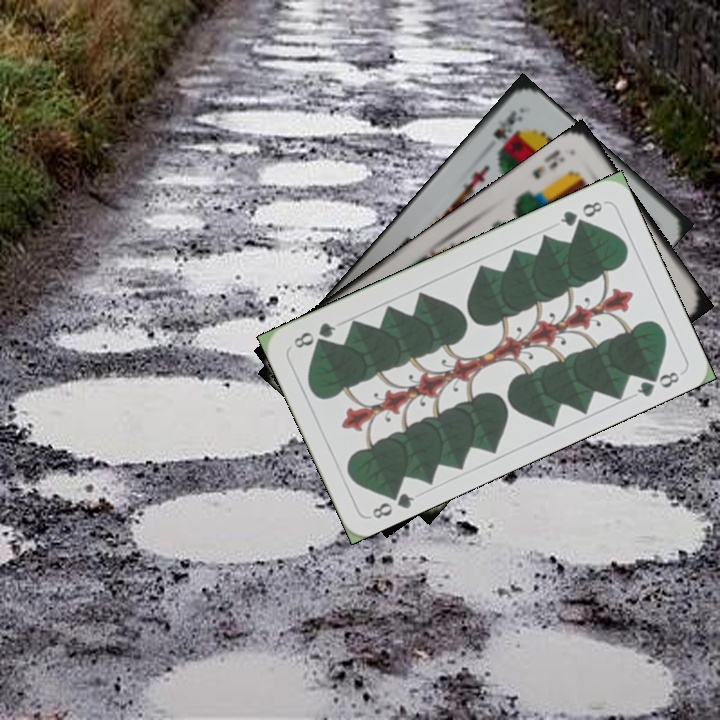EK: (528, 145, 568, 182)
G8: (368, 483, 417, 522), (556, 197, 606, 229)
SK: (489, 106, 525, 143)
